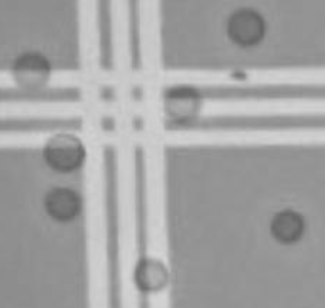cell: (221, 4, 270, 51), (8, 46, 54, 96), (159, 80, 206, 128), (39, 129, 89, 174), (264, 202, 309, 247), (129, 254, 175, 297), (40, 182, 83, 223)
